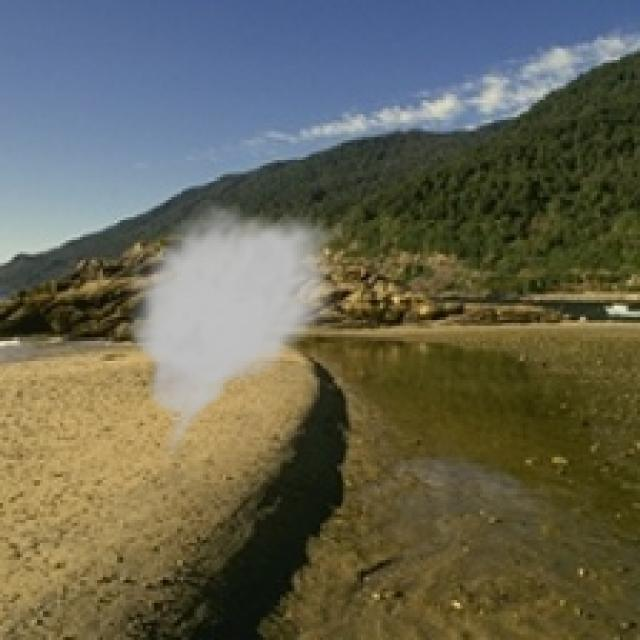smoke: (120, 200, 346, 466)
